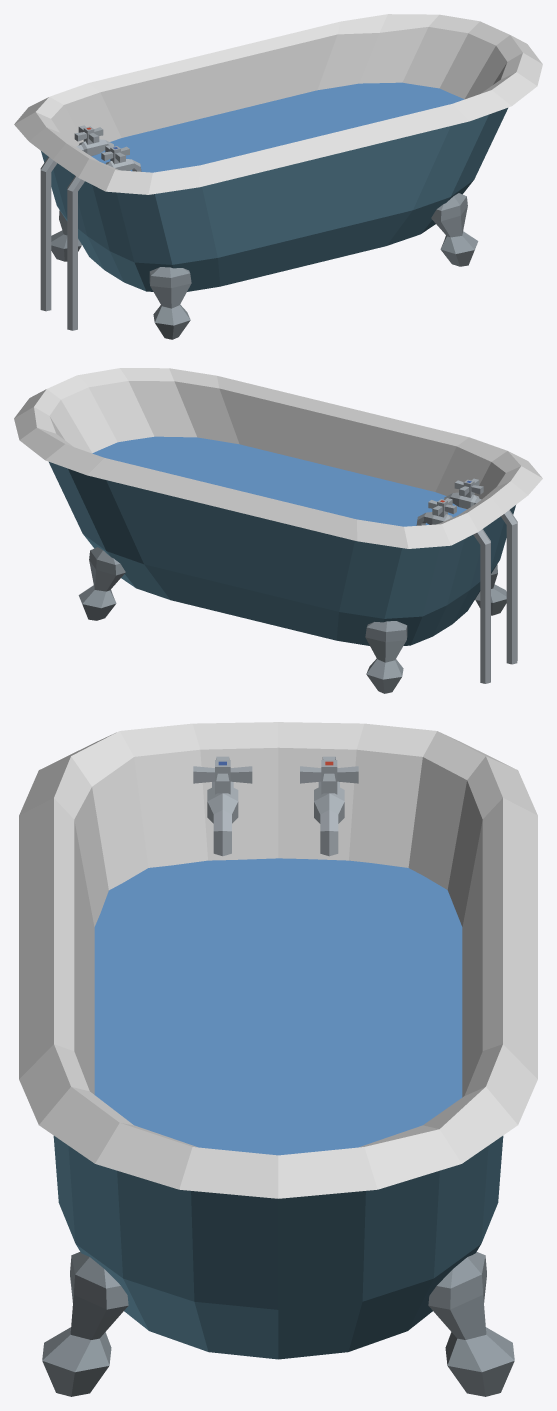
The model's file is Bath.fbx.
3 views of the same model, one above another, from view 1: azimuth 30°, elevation 25°; view 2: azimuth 150°, elevation 25°; view 3: azimuth 270°, elevation 25° (orthographic). The views are drawn at different scales.
Parts seen in each view (by area): view 1: Bath; view 2: Bath; view 3: Bath.
Part boxes in pixels (left/top/right/bottom): Bath: left=14, top=14, right=542, bottom=339; Bath: left=14, top=368, right=542, bottom=693; Bath: left=19, top=722, right=537, bottom=1396.
Bounding box in the file's own units: 233 × 81.31 × 110.
1 material, 1 textured.
